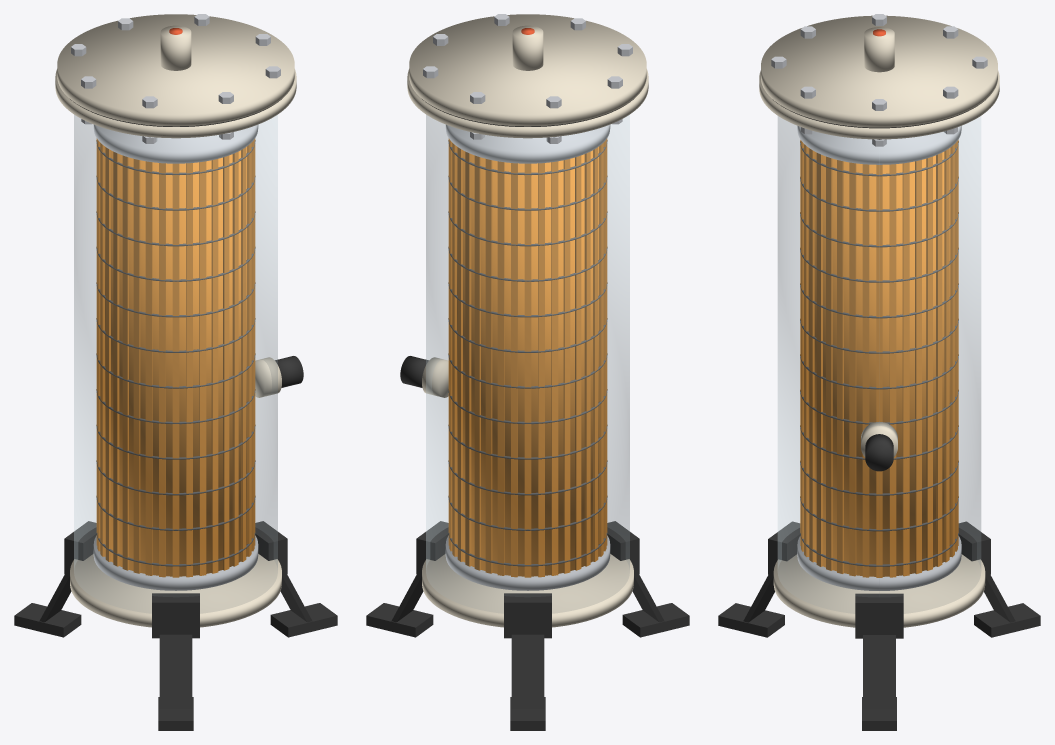
File: filter1.glb
3 renders of one model, left to right at view 1: azimuth 30°, elevation 25°; view 2: azimuth 150°, elevation 25°; view 3: azimuth 270°, elevation 25°, orthographic.
Visible parts, largest first — view 1: Body_Main, Filter_Cartridge_Main, Top_Lid, Body_Bottom_Collar, Filter_Top_Cap, Filter_Pleat_25, Filter_Pleat_23, Filter_Pleat_27, Filter_Pleat_22, Filter_Pleat_28, Top_Flange, Filter_Pleat_24 (+26 smaller); view 2: Body_Main, Filter_Cartridge_Main, Top_Lid, Body_Bottom_Collar, Filter_Top_Cap, Filter_Pleat_13, Filter_Pleat_11, Filter_Pleat_15, Filter_Pleat_10, Filter_Pleat_16, Top_Flange, Filter_Pleat_12 (+26 smaller); view 3: Body_Main, Filter_Cartridge_Main, Top_Lid, Body_Bottom_Collar, Filter_Top_Cap, Filter_Pleat_03, Filter_Pleat_35, Top_Flange, Filter_Pleat_02, Filter_Pleat_36, Filter_Pleat_04, Filter_Pleat_34 (+24 smaller).
Part boxes in pixels (box(x1,y1,x2,y2)): Body_Main: box(74, 115, 277, 613); Filter_Cartridge_Main: box(105, 146, 246, 576); Top_Lid: box(57, 14, 294, 126); Body_Bottom_Collar: box(70, 554, 281, 627); Filter_Top_Cap: box(93, 124, 258, 163); Filter_Pleat_25: box(172, 163, 179, 577); Filter_Pleat_23: box(145, 161, 152, 575); Filter_Pleat_27: box(199, 161, 206, 575); Filter_Pleat_22: box(133, 159, 140, 573); Filter_Pleat_28: box(211, 159, 218, 573); Top_Flange: box(55, 69, 296, 138); Filter_Pleat_24: box(159, 163, 165, 577); Body_Main: box(426, 115, 629, 613); Filter_Cartridge_Main: box(457, 146, 598, 576); Top_Lid: box(409, 14, 646, 126); Body_Bottom_Collar: box(422, 554, 633, 627); Filter_Top_Cap: box(445, 124, 610, 163); Filter_Pleat_13: box(524, 163, 531, 577); Filter_Pleat_11: box(497, 161, 504, 575); Filter_Pleat_15: box(551, 161, 558, 575); Filter_Pleat_10: box(485, 159, 492, 573); Filter_Pleat_16: box(563, 159, 570, 573); Top_Flange: box(407, 69, 648, 138); Filter_Pleat_12: box(511, 163, 517, 577); Body_Main: box(778, 116, 980, 613); Filter_Cartridge_Main: box(808, 148, 950, 576); Top_Lid: box(761, 15, 997, 127); Body_Bottom_Collar: box(773, 554, 985, 627); Filter_Top_Cap: box(797, 126, 961, 164); Filter_Pleat_03: box(902, 162, 909, 576); Filter_Pleat_35: box(849, 162, 856, 576); Top_Flange: box(759, 70, 999, 139); Filter_Pleat_02: box(889, 164, 896, 577); Filter_Pleat_36: box(862, 164, 869, 577); Filter_Pleat_04: box(915, 160, 921, 573); Filter_Pleat_34: box(837, 160, 843, 573).
Size of what is drawn, in the model's own units: 0.271 by 0.63 by 0.2949.
